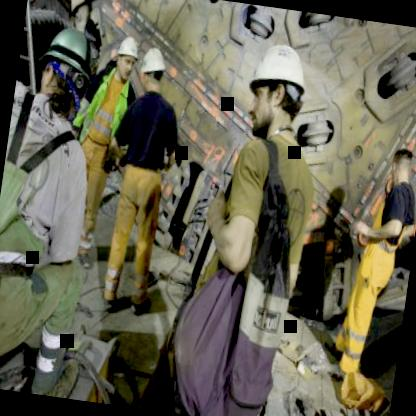head: (384, 136, 416, 192)
helmet: (240, 39, 314, 140), (38, 24, 92, 104), (109, 35, 141, 82), (136, 48, 166, 92)
